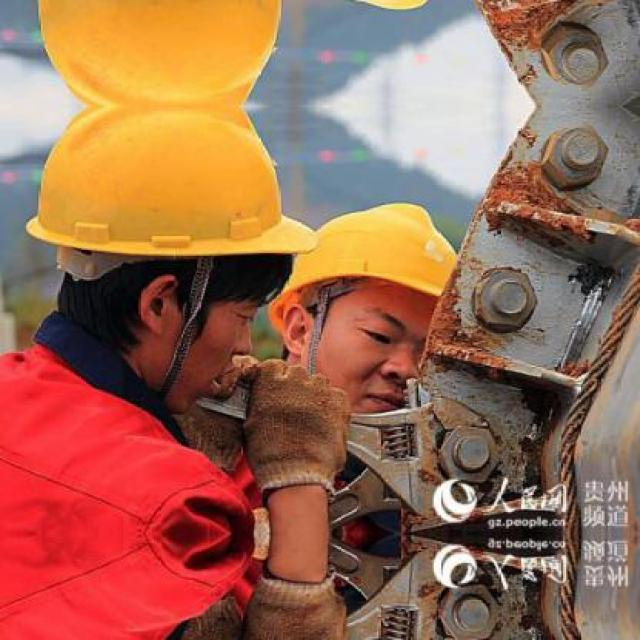helmet: (23, 105, 346, 418), (272, 180, 476, 432), (23, 0, 348, 108)
